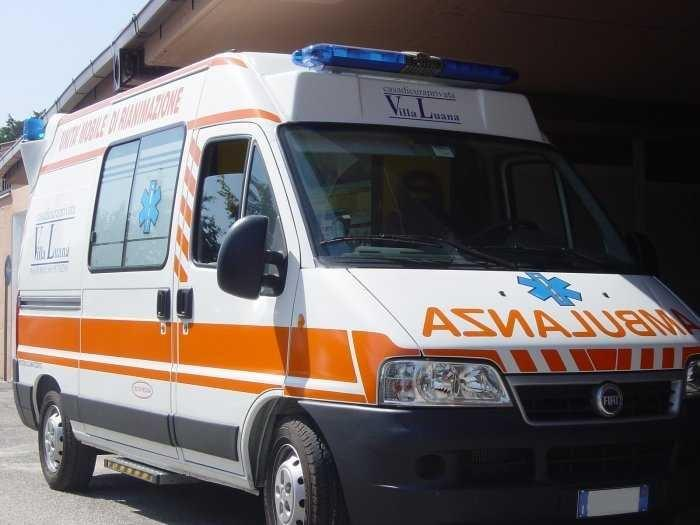car: (9, 41, 698, 524)
